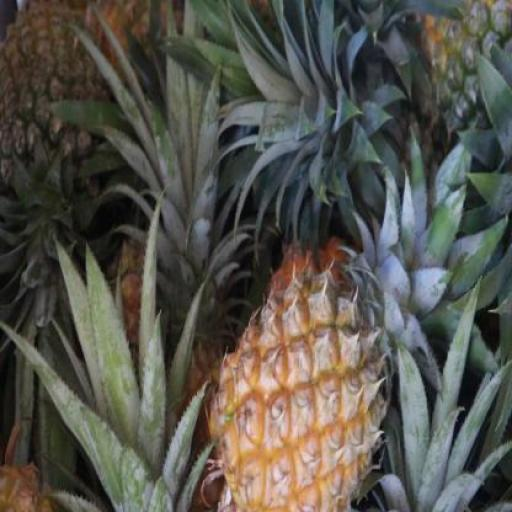Pineapple - v8 v1: (206, 264, 388, 510)
